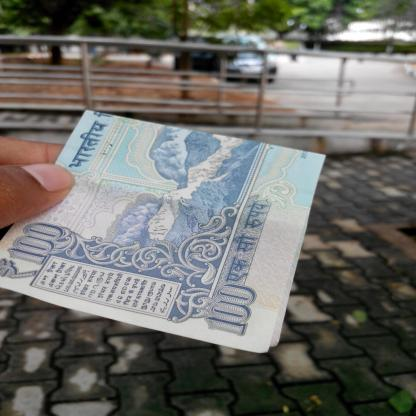Old100Back: (0, 108, 330, 355)
